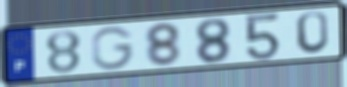0: (293, 10, 331, 56)
5: (243, 12, 282, 62)
8: (191, 17, 233, 65), (43, 27, 84, 76), (142, 21, 184, 68)
G: (89, 25, 137, 72)
